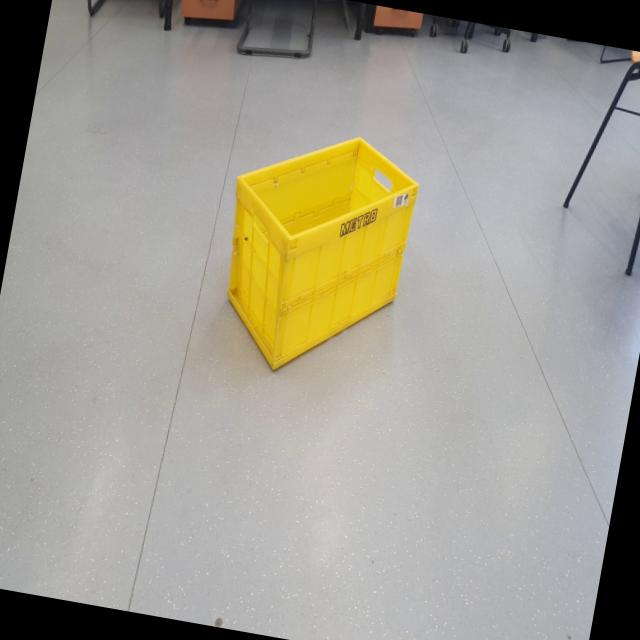box: (198, 105, 432, 396)
